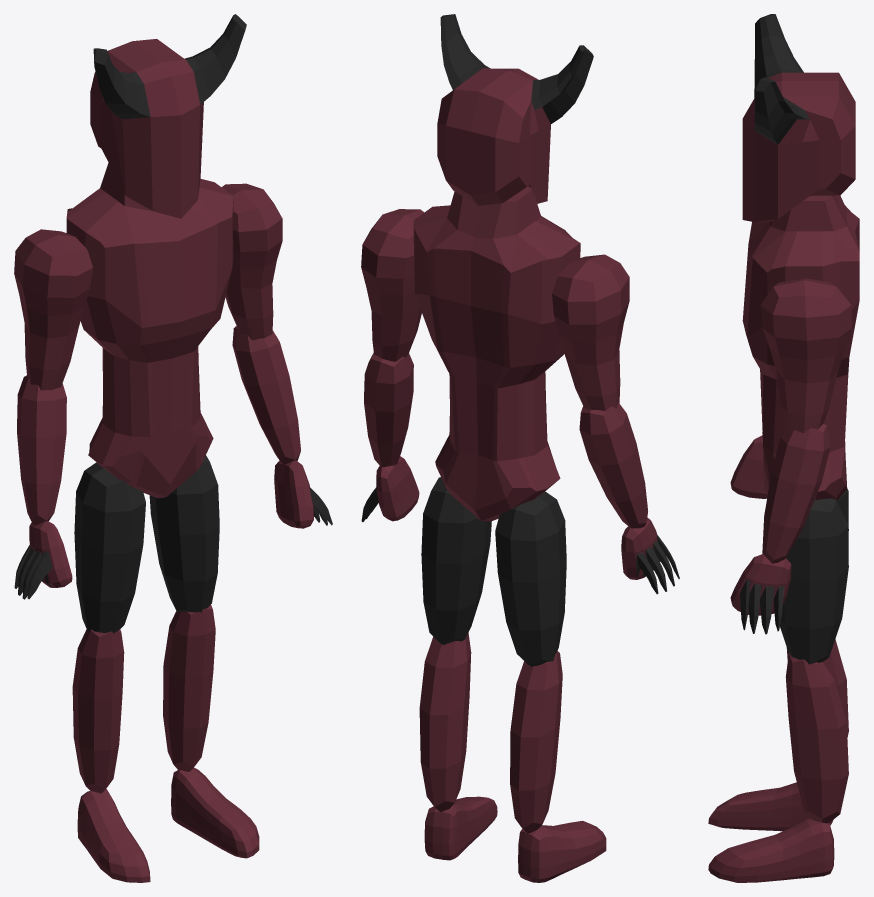
File: Demon.fbx
3 renders of one model, left to right at view 1: azimuth 30°, elevation 25°; view 2: azimuth 150°, elevation 25°; view 3: azimuth 270°, elevation 25°, orthographic.
Parts seen in each view (by area): view 1: Cube, Cube.003, Cube.002, Cube.001, Cube.005, Cube.004; view 2: Cube, Cube.003, Cube.002, Cube.001, Cube.005, Cube.004; view 3: Cube.003, Cube.001, Cube.002, Cube, Cube.005, Cube.004.
Boxes of the visible parts, box(x1,y1,x2,y2) form: Cube: box(66, 163, 233, 498); Cube.003: box(72, 455, 219, 793); Cube.002: box(14, 183, 300, 525); Cube.001: box(90, 14, 246, 218); Cube.005: box(77, 767, 259, 882); Cube.004: box(14, 460, 332, 599); Cube: box(413, 186, 580, 521); Cube.003: box(419, 477, 566, 833); Cube.002: box(361, 209, 647, 528); Cube.001: box(437, 14, 593, 205); Cube.005: box(424, 796, 606, 882); Cube.004: box(361, 456, 679, 594); Cube.003: box(780, 489, 848, 823); Cube.001: box(742, 14, 855, 221); Cube.002: box(760, 278, 851, 563); Cube: box(742, 195, 859, 500); Cube.005: box(708, 782, 834, 882); Cube.004: box(730, 435, 791, 634).
Bounding box in the file's own units: 468 × 1198 × 204.
